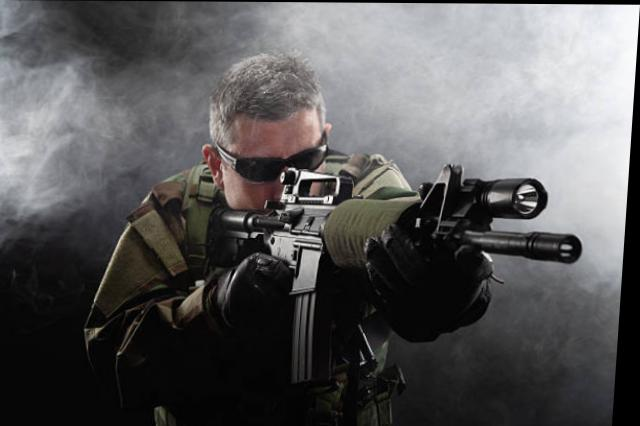other: (140, 76, 433, 403)
